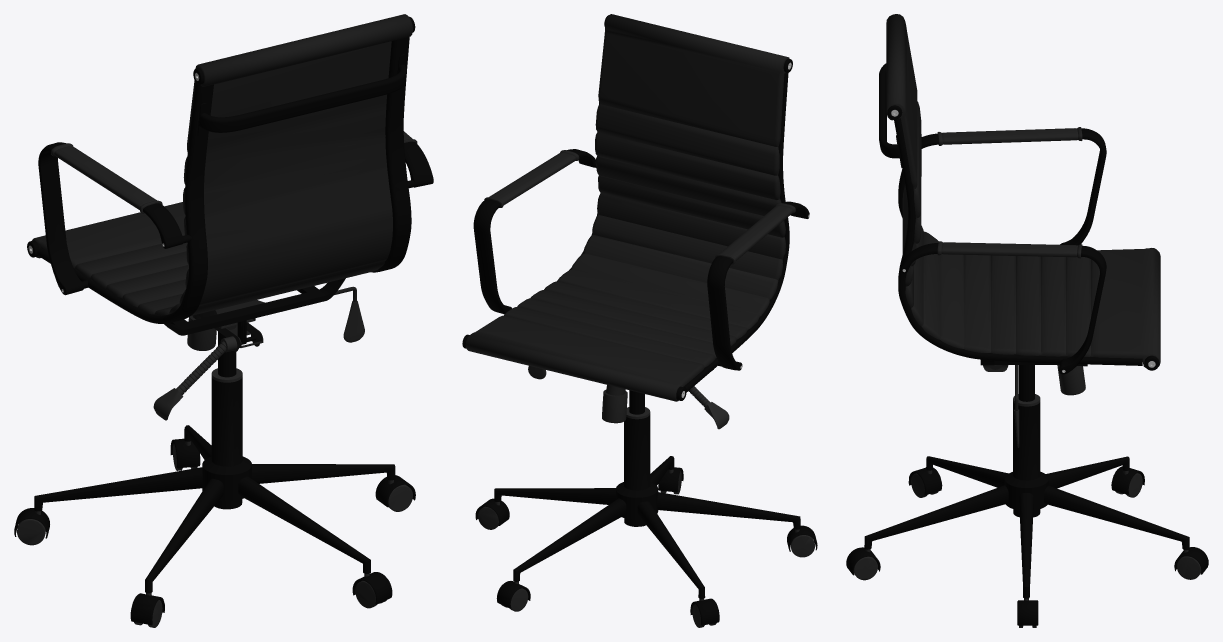
Rendered from high_poly_pbr_office_chair.glb.
3 renders of one model, left to right at view 1: azimuth 30°, elevation 25°; view 2: azimuth 150°, elevation 25°; view 3: azimuth 270°, elevation 25°, orthographic. The views are drawn at different scales.
Parts seen in each view (by area): view 1: leather, bottom2, metalicpart, armrest_left_1, bottom3, bottom, armrest_right_1; view 2: leather, bottom2, armrest_left_1, armrest_right_1, metalicpart, bottom3; view 3: leather, bottom2, metalicpart, armrest_right_1, armrest_left_1, bottom3.
Part boxes in pixels (x1=…): leather: x1=32, y1=14, x2=412, y2=315; bottom2: x1=14, y1=300, x2=415, y2=627; metalicpart: x1=27, y1=16, x2=415, y2=323; armrest_left_1: x1=38, y1=142, x2=192, y2=295; bottom3: x1=153, y1=286, x2=364, y2=420; bottom: x1=164, y1=278, x2=345, y2=335; armrest_right_1: x1=403, y1=131, x2=433, y2=188; leather: x1=465, y1=14, x2=789, y2=401; bottom2: x1=475, y1=390, x2=817, y2=627; armrest_left_1: x1=707, y1=201, x2=809, y2=370; armrest_right_1: x1=473, y1=149, x2=596, y2=314; metalicpart: x1=462, y1=15, x2=792, y2=400; bottom3: x1=528, y1=366, x2=729, y2=429; leather: x1=886, y1=14, x2=1160, y2=367; bottom2: x1=846, y1=365, x2=1208, y2=627; metalicpart: x1=879, y1=63, x2=1159, y2=370; armrest_right_1: x1=901, y1=241, x2=1106, y2=374; armrest_left_1: x1=921, y1=127, x2=1106, y2=245; bottom3: x1=983, y1=365, x2=1085, y2=447.
Size of the model in its own units: 0.96 by 1.52 by 1.01.
Materials: 7 (6 with a texture image).
